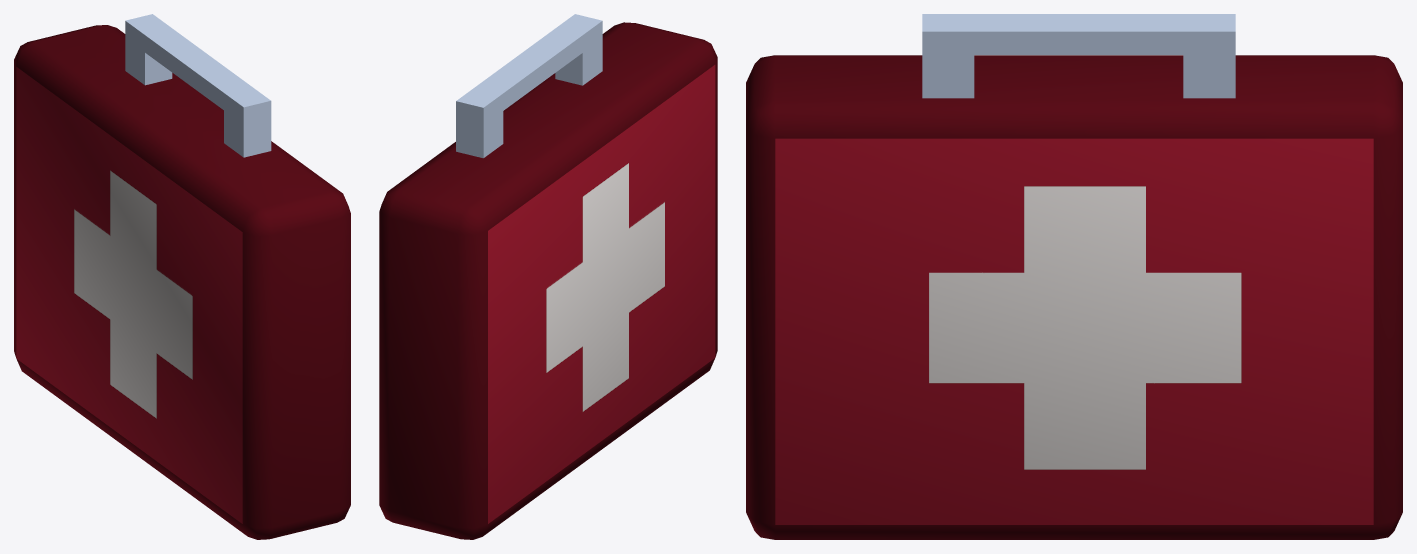
The model's file is PRMC_Botiquin.FBX.
The picture shows the model from 3 angles, left to right: view 1: azimuth 30°, elevation 25°; view 2: azimuth 150°, elevation 25°; view 3: azimuth 270°, elevation 25°; orthographic projection. The views are drawn at different scales.
Parts seen in each view (by area): view 1: PRMC_Botiquin02, PRMC_Botiquin01, PRMC_Botiquin03; view 2: PRMC_Botiquin02, PRMC_Botiquin01, PRMC_Botiquin03; view 3: PRMC_Botiquin01, PRMC_Botiquin03, PRMC_Botiquin02.
Boxes of the visible parts, x1,y1,x2,y2 form: PRMC_Botiquin02: (14, 33, 306, 539); PRMC_Botiquin01: (63, 25, 350, 530); PRMC_Botiquin03: (125, 14, 271, 157); PRMC_Botiquin02: (423, 31, 717, 539); PRMC_Botiquin01: (379, 22, 668, 530); PRMC_Botiquin03: (456, 14, 602, 158); PRMC_Botiquin01: (746, 78, 1402, 539); PRMC_Botiquin03: (922, 14, 1235, 98); PRMC_Botiquin02: (746, 55, 1402, 103).
Size of the model in its own units: 0.3103 by 1.07 by 1.26.
